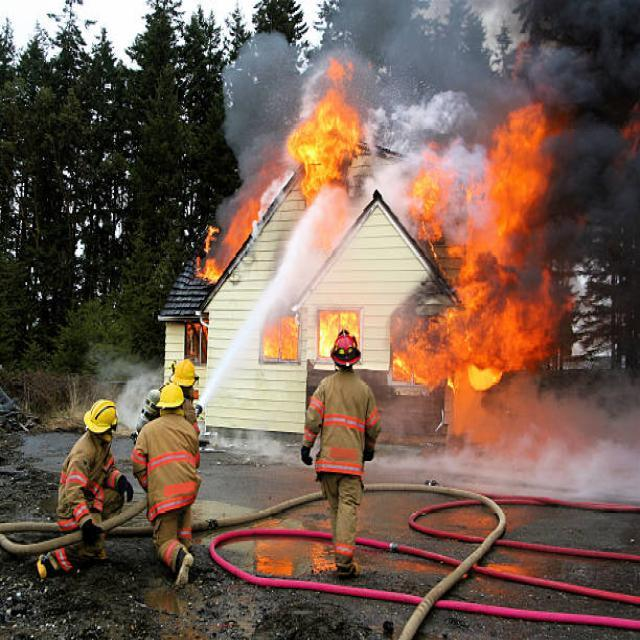Fire: (392, 98, 574, 384), (286, 66, 362, 205), (412, 162, 440, 242), (320, 312, 360, 362), (227, 192, 259, 254), (264, 309, 300, 362), (194, 225, 222, 282)
Smoke: (508, 0, 640, 296), (372, 90, 482, 156)
